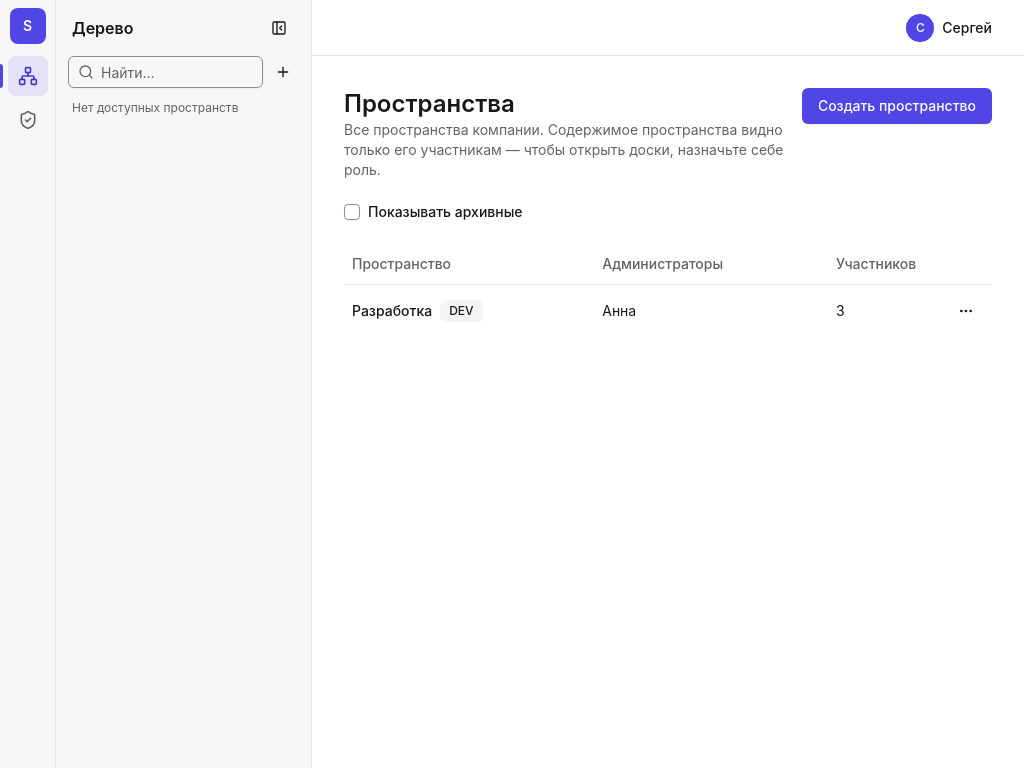
Админка: пространства › показывает пространства с администраторами; архивные — по флажку
Expected: the text "3" is shown, [828,284,940,336]
Expected: the text "Старое" is not shown
Click the checkbox named "Показывать архивные".
click(352, 212)  # box [344,204,360,220]
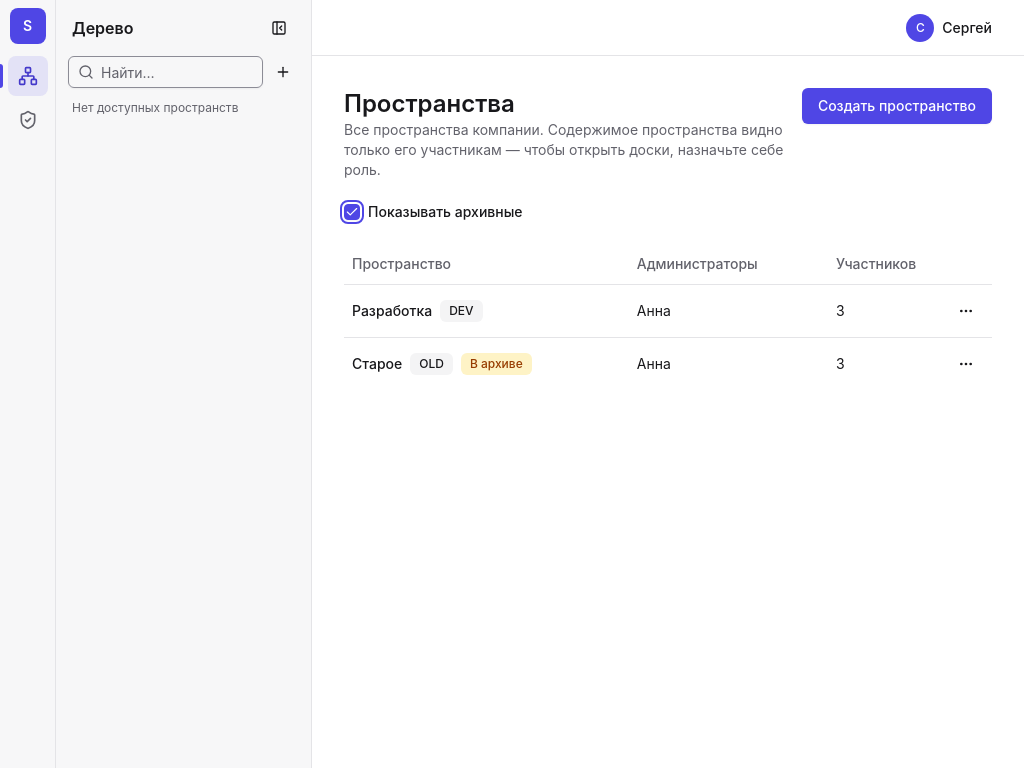
Expected: the text "Старое" is shown, [352,354,402,372]
